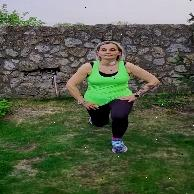lunges: (66, 39, 163, 158)
